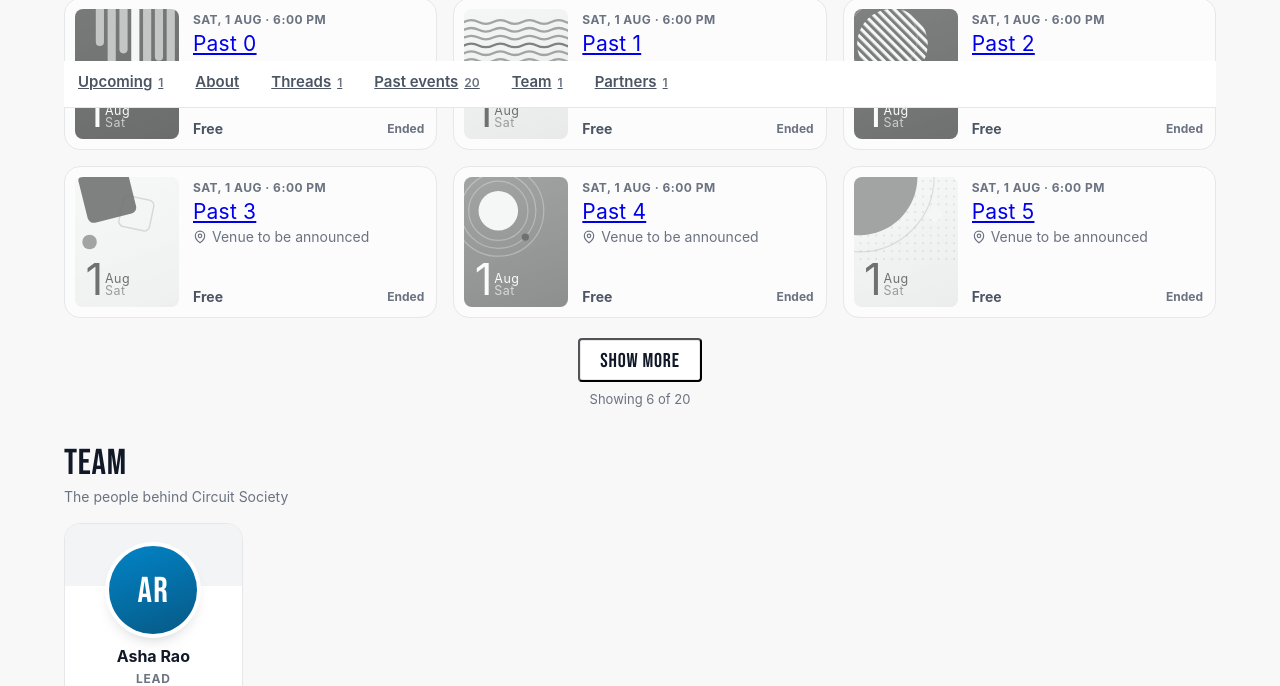
Test: a club's page › shows more past events twelve at a time, saying how far along it is, until there are no more
(page scrolled)
Check: the text "Showing 6 of 20" is shown, box [590, 390, 690, 410]
Check: the link "Past events 20" is shown, box [374, 72, 480, 91]
Click the button "Show more" at {"x": 640, "y": 360}, box [578, 338, 702, 382]
(page scrolled)
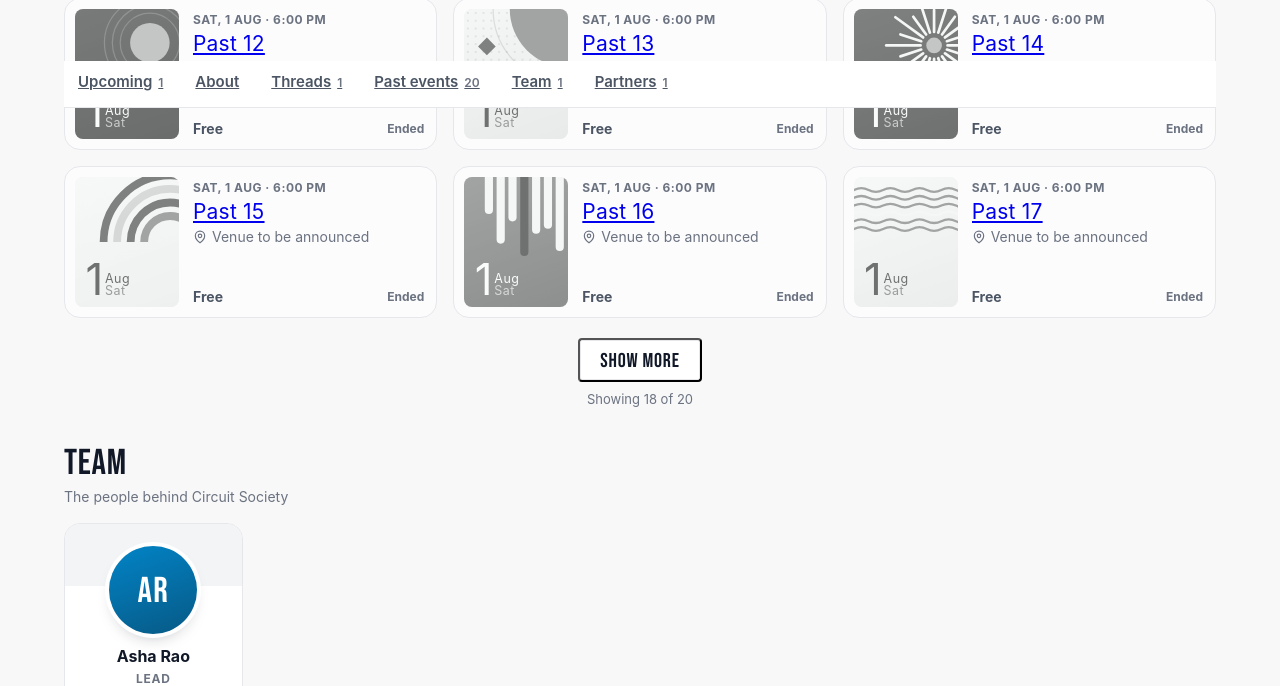
Check: the text "Showing 18 of 20" is shown, box [587, 390, 693, 410]
Click the button "Show more" at {"x": 640, "y": 360}, box [578, 338, 702, 382]
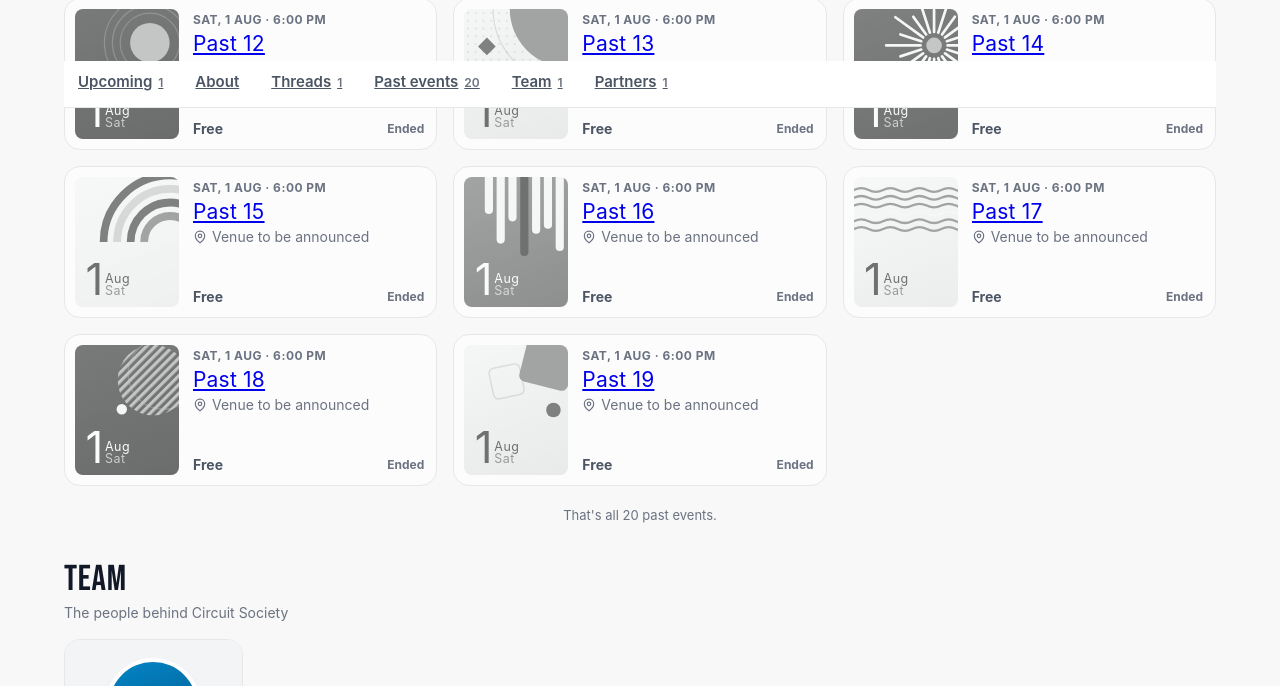
Check: the text "That's all 20 past events." is shown, box [563, 507, 717, 523]
Check: the button "Show more" is gone
